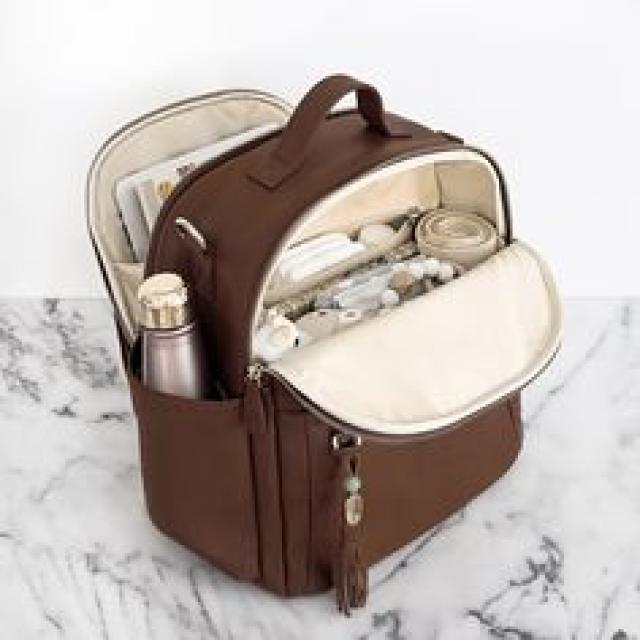backpack: (85, 71, 562, 614)
